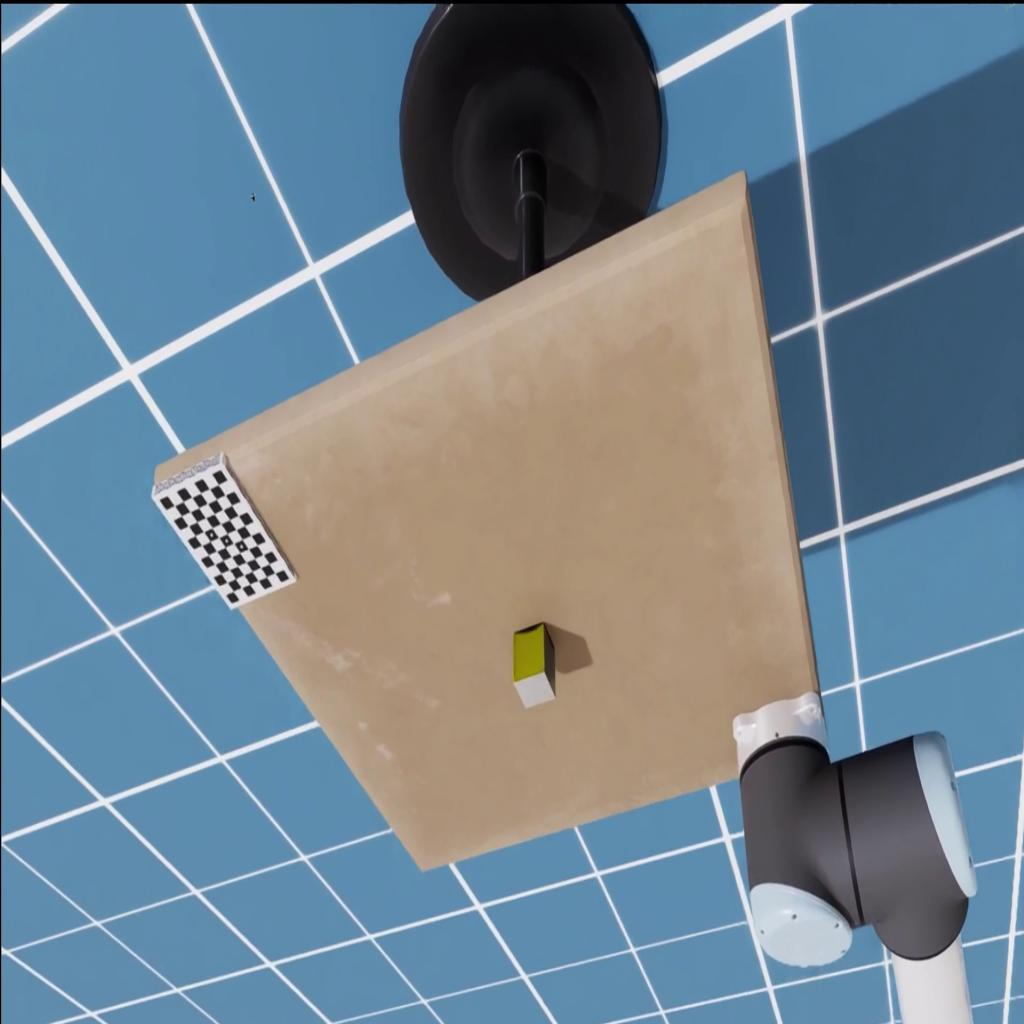Cube: (512, 622, 556, 709)
QR: (151, 450, 297, 612)
Robot: (729, 688, 976, 1024)
Table: (154, 169, 824, 872)
